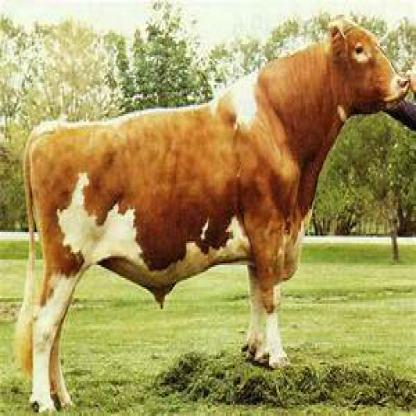cow: (12, 17, 405, 414)
